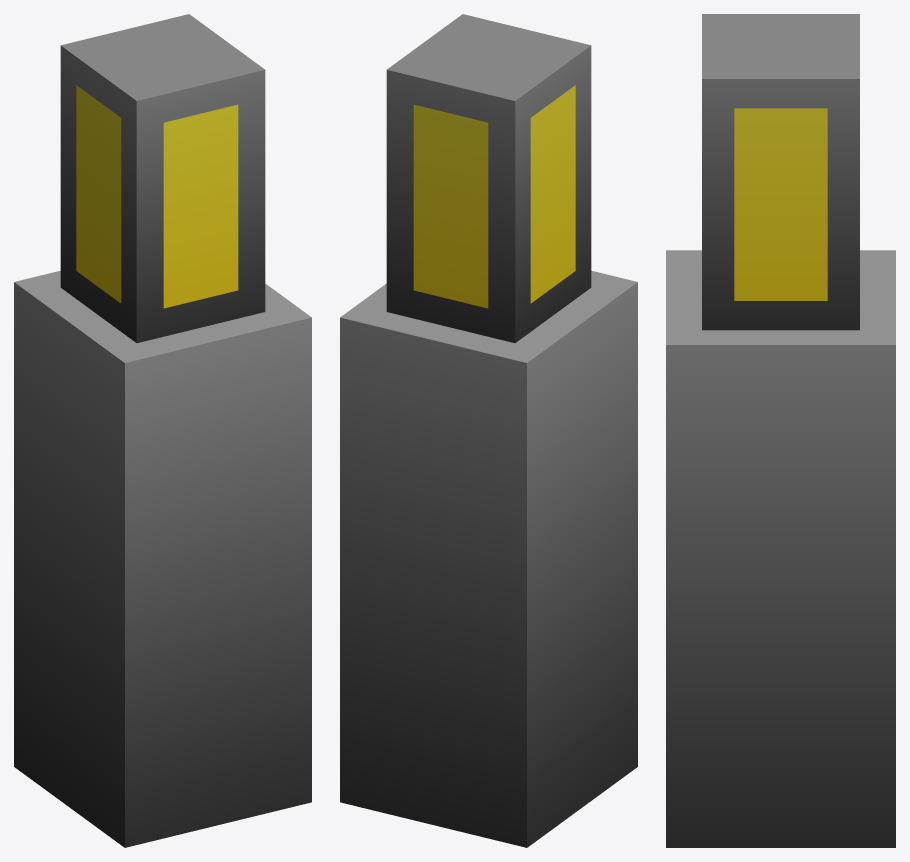
Rendered from fence pillar modern.fbx.
3 renders of one model, left to right at view 1: azimuth 30°, elevation 25°; view 2: azimuth 150°, elevation 25°; view 3: azimuth 270°, elevation 25°, orthographic. The views are drawn at different scales.
Visible parts, largest first — view 1: fence_pillar_modern; view 2: fence_pillar_modern; view 3: fence_pillar_modern.
Boxes of the visible parts, x1,y1,x2,y2 form: fence_pillar_modern: (14,14,311,847); fence_pillar_modern: (340,14,637,847); fence_pillar_modern: (666,14,895,847).
Size of the model in its own units: 58.05 by 216 by 59.57.
1 material, 1 textured.
